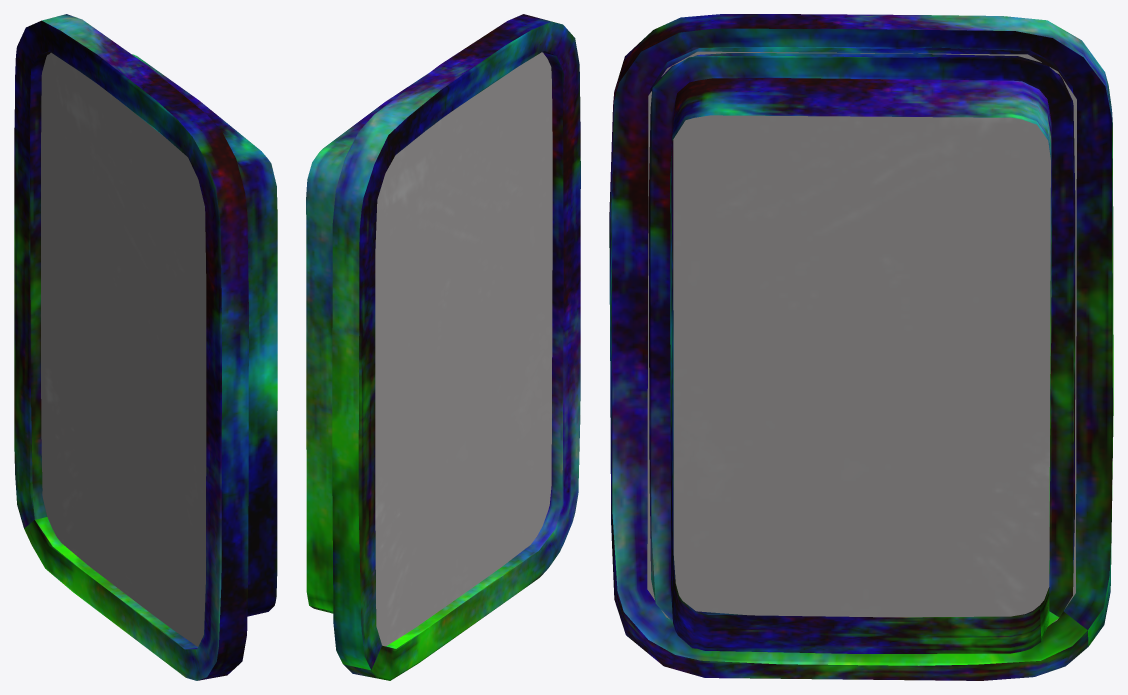
Rendered from SM_CaptainBottom_Window.fbx.
3 renders of one model, left to right at view 1: azimuth 30°, elevation 25°; view 2: azimuth 150°, elevation 25°; view 3: azimuth 270°, elevation 25°, orthographic. The views are drawn at different scales.
Parts seen in each view (by area): view 1: SM_CaptainBottom_Window_LOD0; view 2: SM_CaptainBottom_Window_LOD0; view 3: SM_CaptainBottom_Window_LOD0.
Part boxes in pixels (box(x1,y1,x2,y2)): SM_CaptainBottom_Window_LOD0: box(14, 14, 277, 680); SM_CaptainBottom_Window_LOD0: box(306, 14, 580, 680); SM_CaptainBottom_Window_LOD0: box(609, 14, 1113, 680).
Bounding box in the file's own units: 6.98 × 29.43 × 41.93.
Materials: 2 (2 with a texture image).
